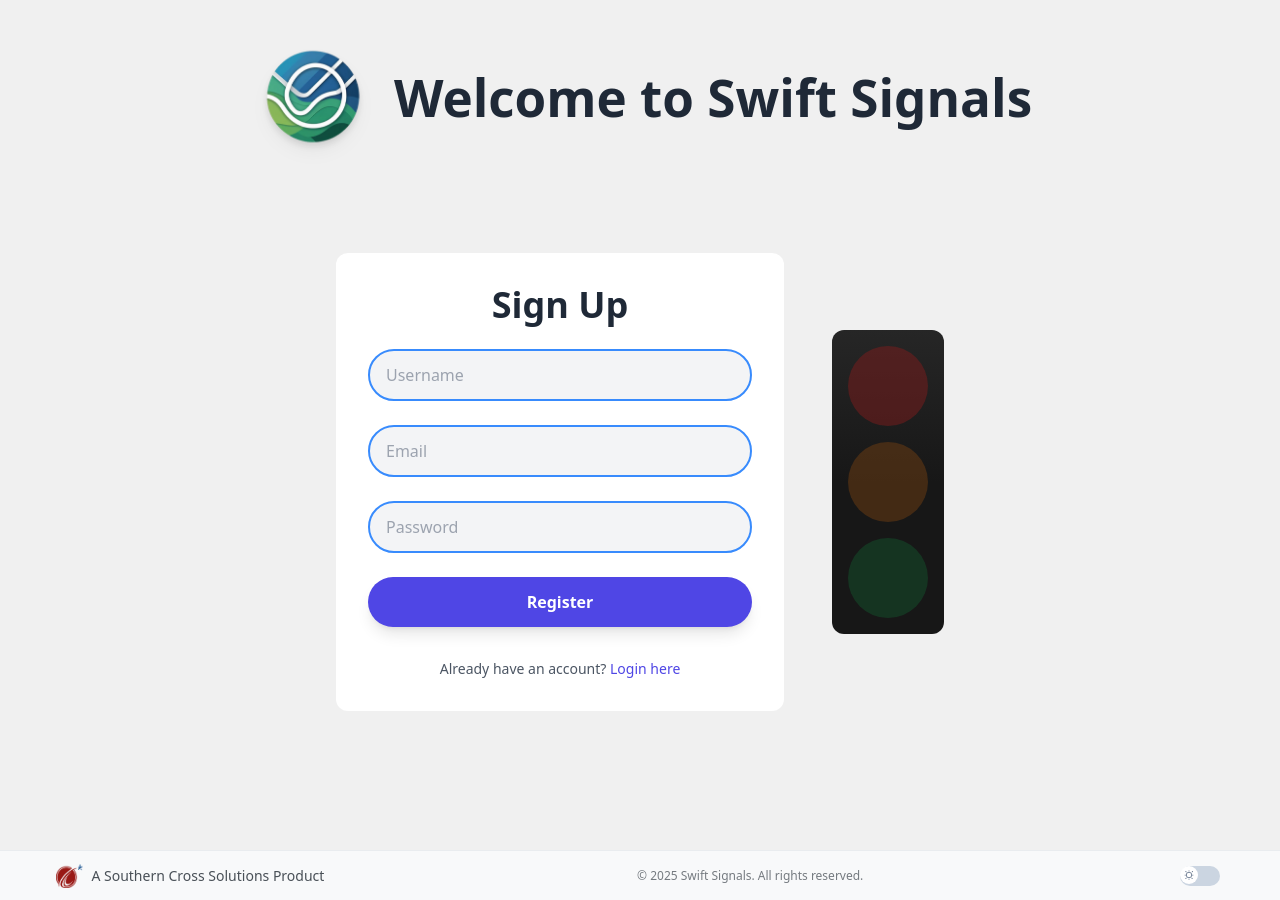
it: SignUp Page › shows error if API returns non-OK response
The image size is (1280, 900).
Type "testuser" into the field with placeholder "Username" at {"x": 560, "y": 375}, box [368,349,752,401]
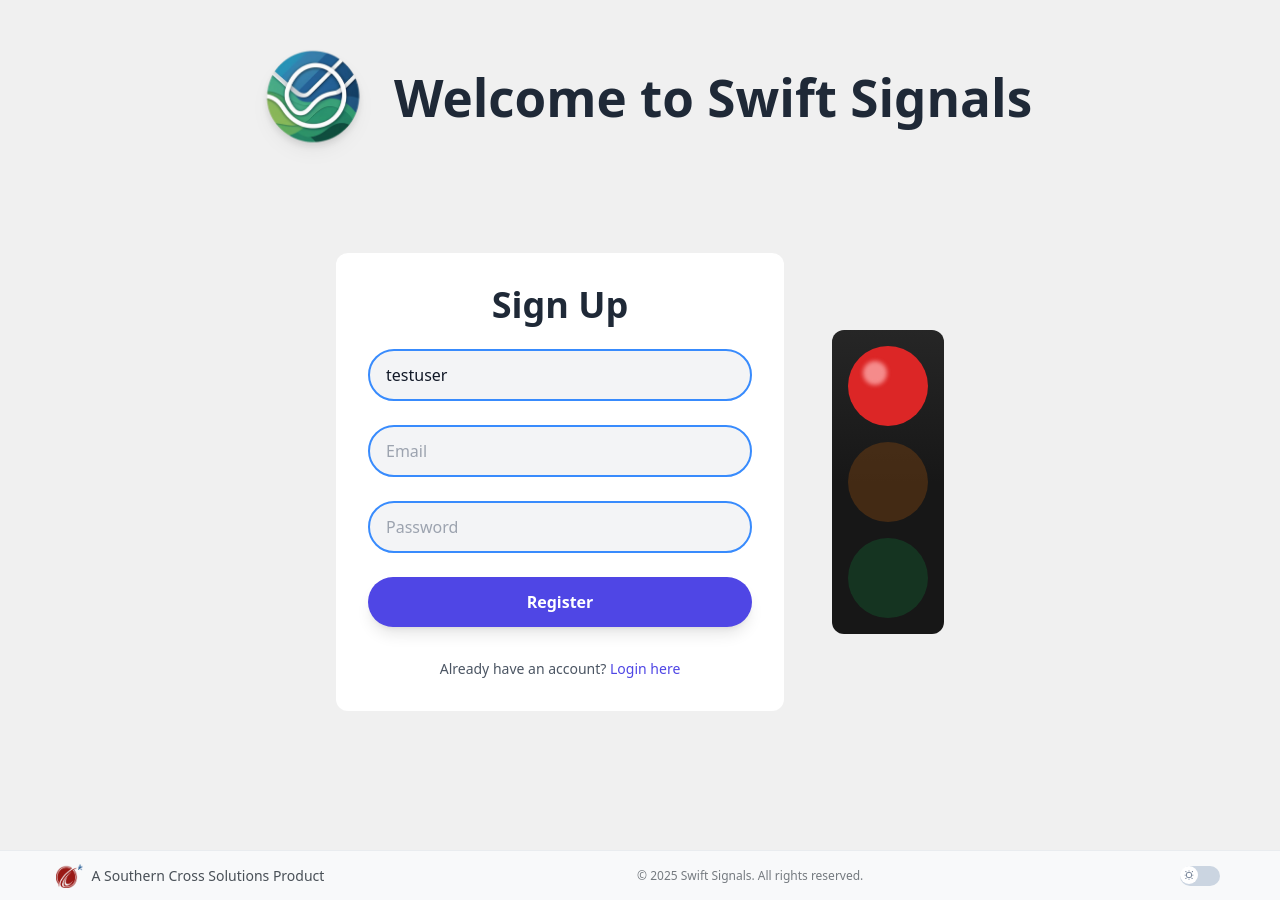
Type "test@example.com" into the field with placeholder "Email" at {"x": 560, "y": 451}, box [368,425,752,477]
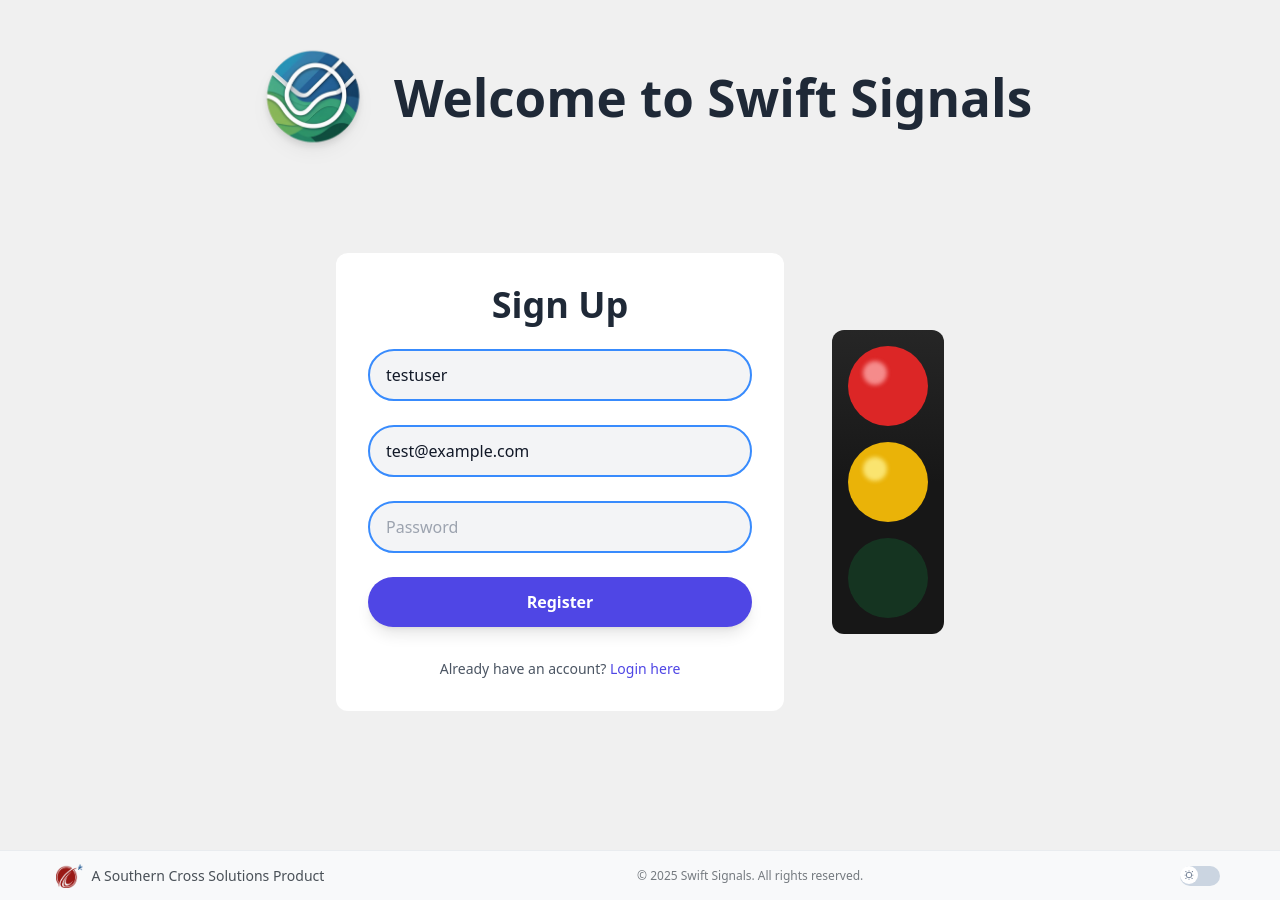
Type "password123" into the password field with placeholder "Password" at {"x": 560, "y": 527}, box [368,501,752,553]
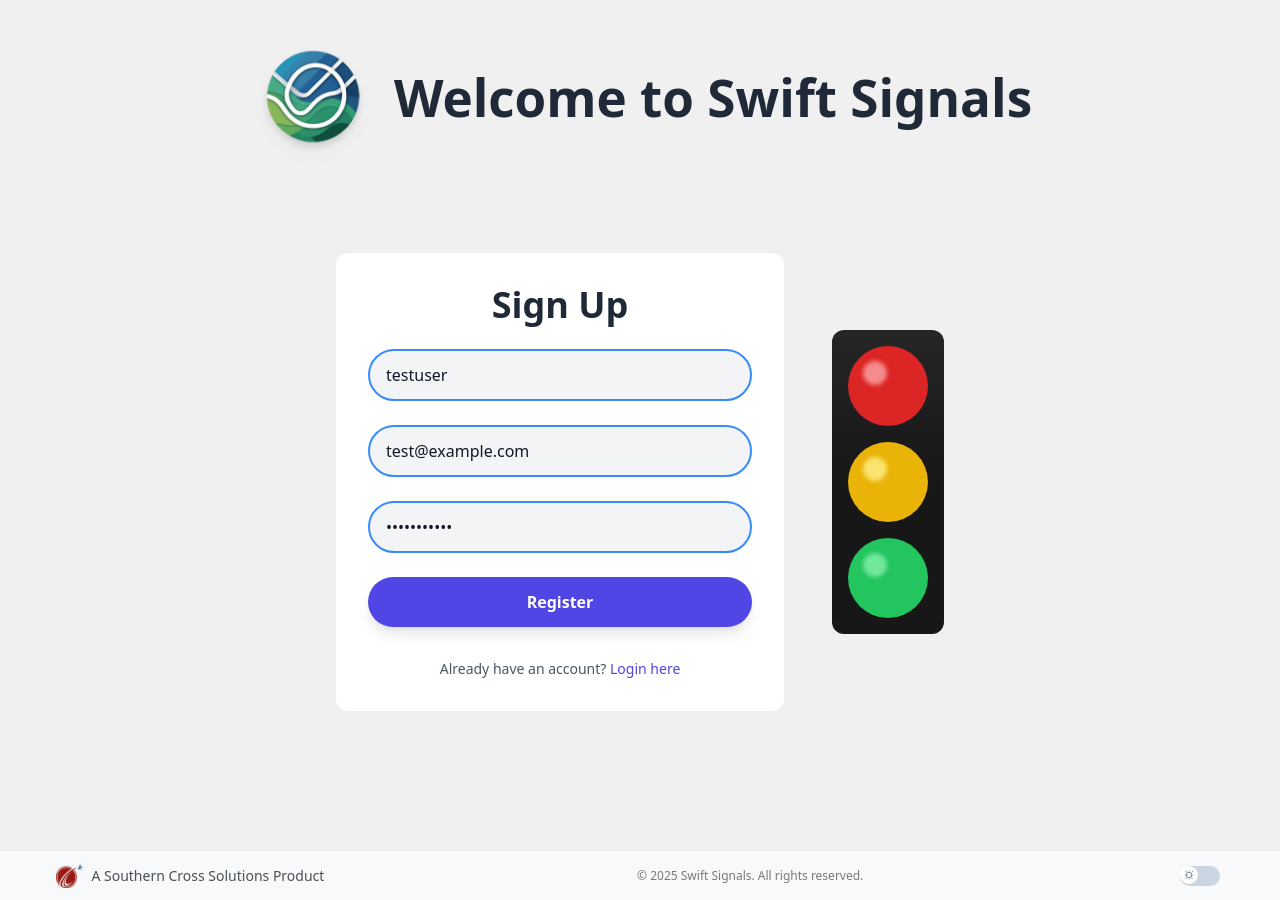
Click the button "Register" at {"x": 560, "y": 602}, box [368,577,752,627]
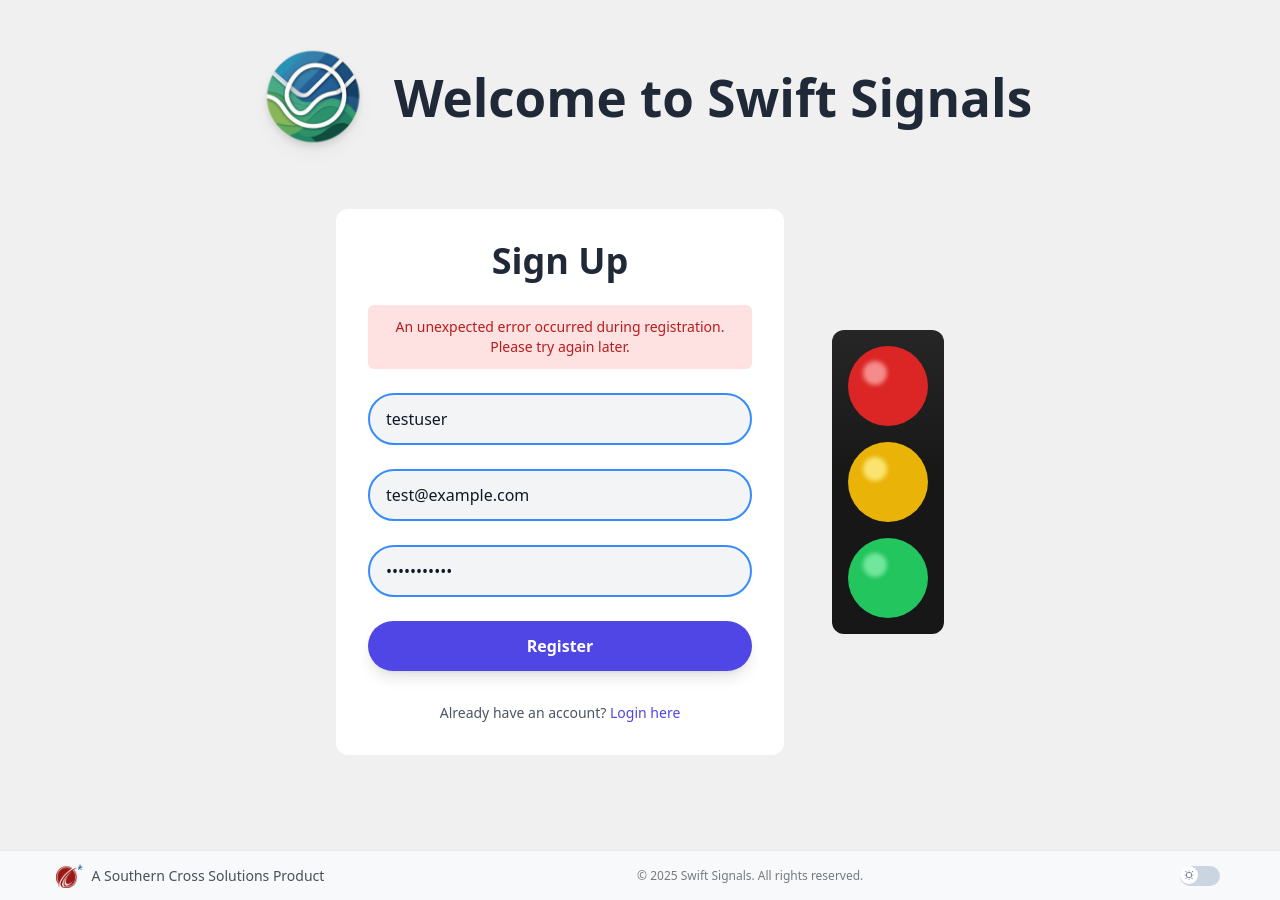
Expected: the message shows "An unexpected error occurred during registration", [396,317,724,356]
